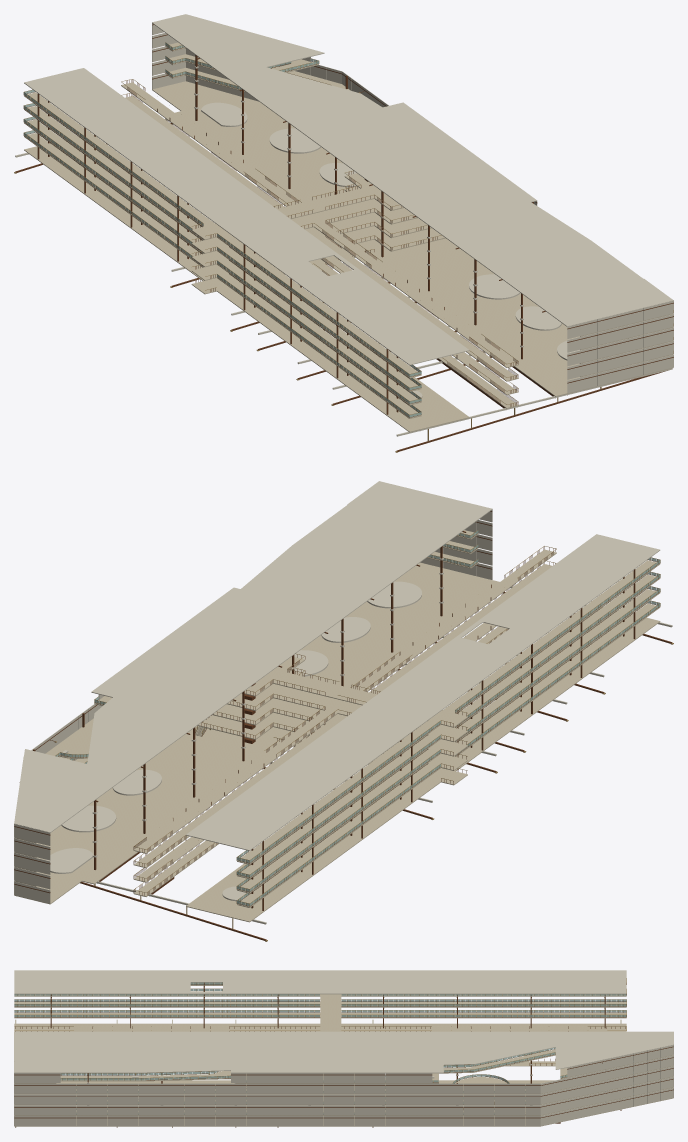
Rendered from architecture_lift_fit.glb.
3 views of the same model, one above another, from view 1: azimuth 30°, elevation 25°; view 2: azimuth 150°, elevation 25°; view 3: azimuth 270°, elevation 25° (orthographic). The views are drawn at different scales.
Visible parts, largest first — view 1: QG_Batch_462, QG_Batch_461, QG_Batch_0, QG_Batch_2, QG_Batch_95, QG_Batch_94, QG_Batch_53, QG_Batch_52, QG_Batch_12, QG_Batch_3, QG_Batch_134, QG_Batch_168 (+18 smaller); view 2: QG_Batch_462, QG_Batch_461, QG_Batch_0, QG_Batch_3, QG_Batch_94, QG_Batch_95, QG_Batch_2, QG_Batch_52, QG_Batch_53, QG_Batch_11, QG_Batch_12, QG_Batch_168 (+13 smaller); view 3: QG_Batch_462, QG_Batch_461, QG_Batch_134, QG_Batch_2, QG_Batch_3, QG_Batch_12, QG_Batch_11, QG_Batch_95, QG_Batch_53, QG_Batch_96, QG_Batch_94, QG_Batch_52 (+77 smaller).
Boxes of the visible parts, x1,y1,x2,y2 form: QG_Batch_462: [152, 14, 673, 326]; QG_Batch_461: [24, 68, 469, 365]; QG_Batch_0: [152, 81, 673, 393]; QG_Batch_2: [217, 252, 567, 432]; QG_Batch_95: [217, 223, 518, 391]; QG_Batch_94: [24, 82, 297, 240]; QG_Batch_53: [217, 237, 518, 405]; QG_Batch_52: [24, 96, 283, 253]; QG_Batch_12: [217, 256, 518, 418]; QG_Batch_3: [24, 136, 204, 280]; QG_Batch_134: [191, 59, 673, 336]; QG_Batch_168: [217, 233, 421, 378]; QG_Batch_462: [14, 481, 492, 832]; QG_Batch_461: [186, 534, 660, 850]; QG_Batch_0: [14, 562, 491, 904]; QG_Batch_3: [133, 767, 440, 922]; QG_Batch_94: [133, 710, 440, 879]; QG_Batch_95: [354, 549, 660, 727]; QG_Batch_2: [347, 580, 660, 771]; QG_Batch_52: [134, 724, 440, 893]; QG_Batch_53: [369, 564, 660, 742]; QG_Batch_11: [133, 764, 440, 907]; QG_Batch_12: [454, 603, 660, 756]; QG_Batch_168: [443, 560, 660, 713]; QG_Batch_462: [14, 1031, 673, 1073]; QG_Batch_461: [14, 970, 626, 994]; QG_Batch_134: [14, 994, 673, 1083]; QG_Batch_2: [14, 1023, 320, 1084]; QG_Batch_3: [341, 1023, 626, 1066]; QG_Batch_12: [14, 1013, 320, 1018]; QG_Batch_11: [341, 1013, 626, 1055]; QG_Batch_95: [14, 991, 320, 1031]; QG_Batch_53: [14, 1002, 320, 1007]; QG_Batch_96: [14, 1065, 673, 1094]; QG_Batch_94: [341, 994, 626, 1031]; QG_Batch_52: [341, 1002, 626, 1007].
Bounding box in the file's own units: 96.41 × 28.26 × 250.
8 materials, 6 textured.
